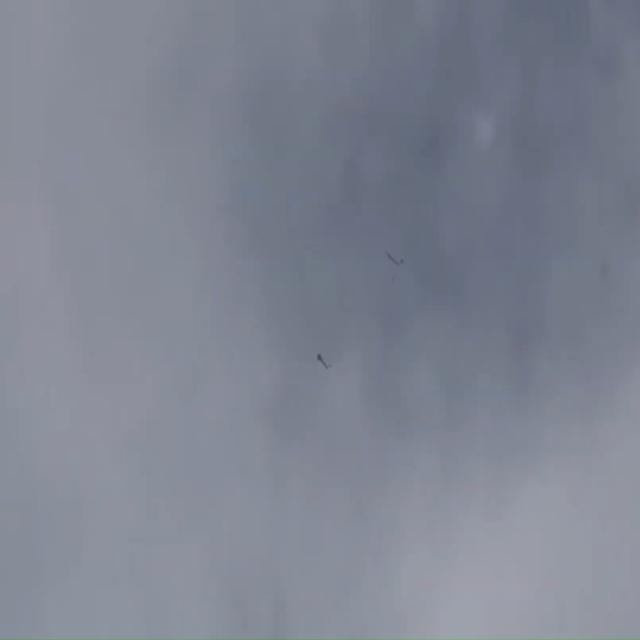Rocket: (317, 353, 328, 370)
